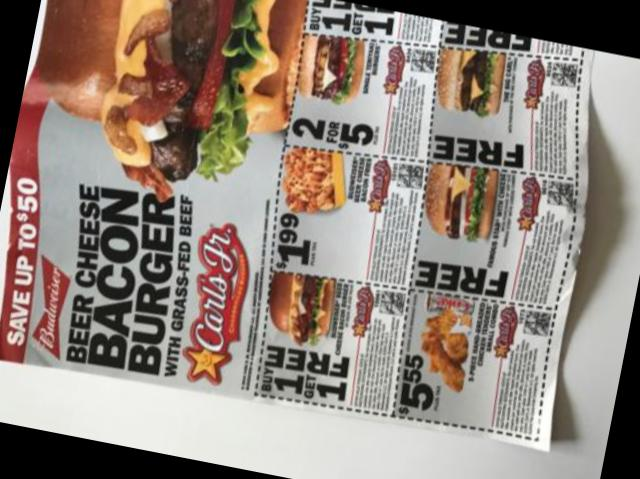cardboard paper: (0, 0, 590, 446)
